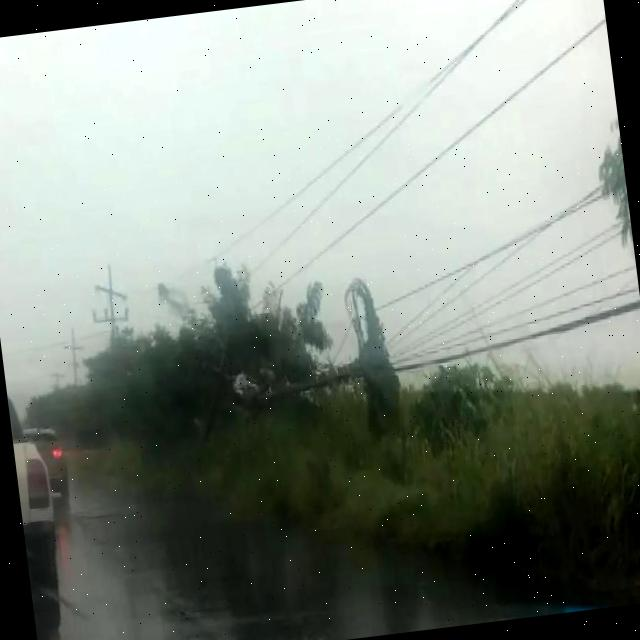Broken Pole: (191, 278, 401, 446)
